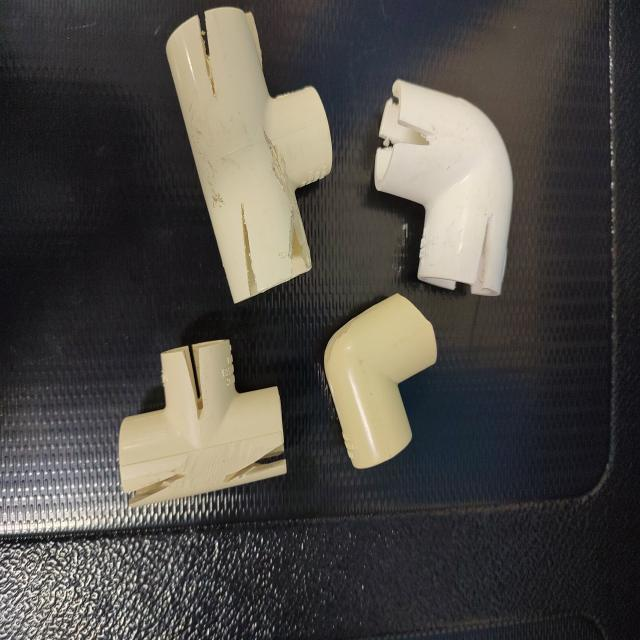Defective: (264, 102, 296, 198), (221, 445, 287, 488), (284, 194, 312, 279), (239, 203, 263, 299), (380, 113, 433, 152), (181, 346, 208, 418), (125, 474, 184, 506), (475, 220, 492, 292), (199, 13, 212, 85), (212, 81, 219, 100), (393, 90, 401, 105)
L Joint: (372, 79, 515, 300), (320, 294, 439, 472)
T Joint: (165, 7, 332, 305), (117, 340, 287, 509)
